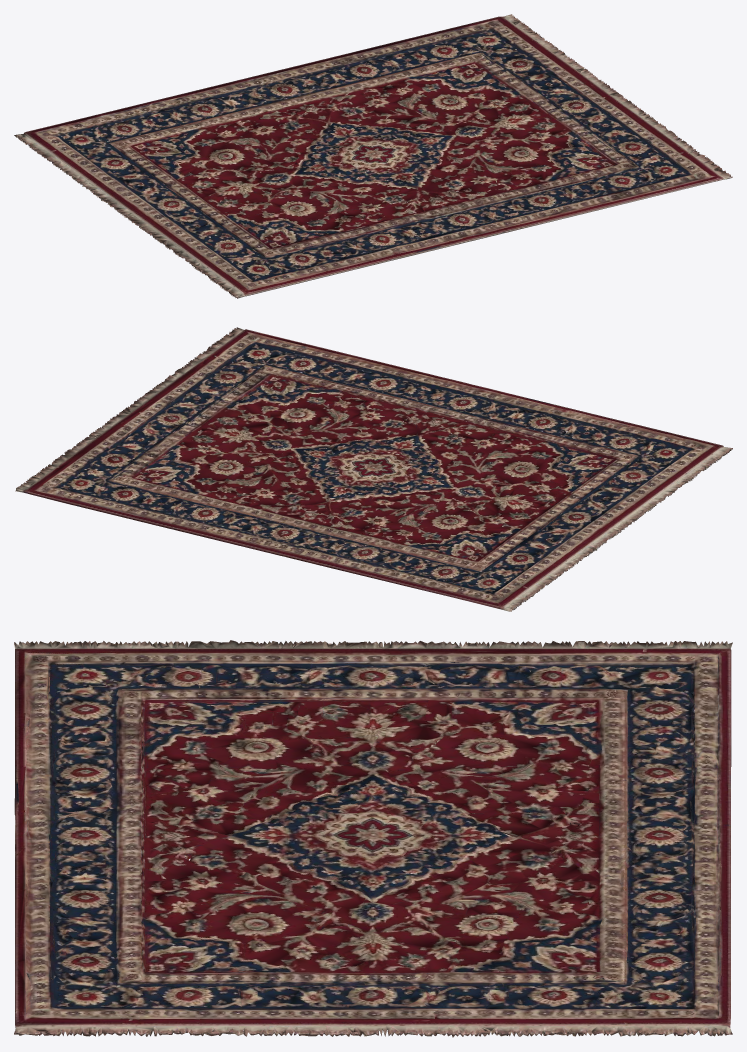
Rendered from rug.glb.
3 renders of one model, top to bottom at view 1: azimuth 30°, elevation 25°; view 2: azimuth 150°, elevation 25°; view 3: azimuth 270°, elevation 25°, orthographic. The views are drawn at different scales.
Bounding box in the file's own units: 1.9 × 0.0225 × 1.48.
1 material, 1 textured.
